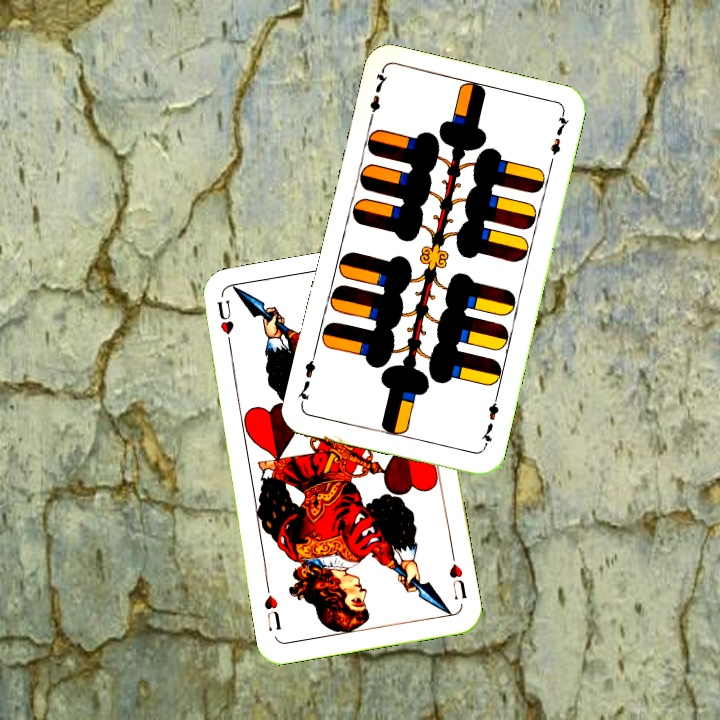E7: (364, 67, 390, 126), (477, 392, 501, 451)
HU: (445, 549, 470, 602), (213, 296, 236, 353)
